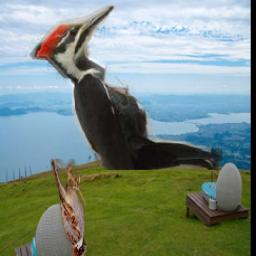Sparrow: (51, 159, 86, 256)
Woodpecker: (24, 7, 223, 171)
